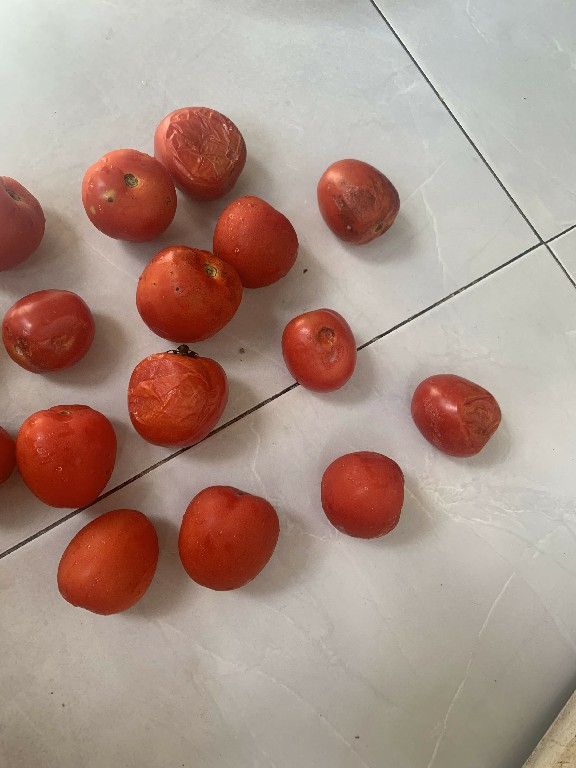NG: (123, 340, 233, 451), (124, 243, 241, 337), (72, 139, 175, 245), (403, 360, 502, 467), (152, 95, 254, 190), (0, 285, 100, 379), (309, 153, 404, 249), (276, 294, 363, 398)
OK: (169, 477, 288, 600), (51, 503, 163, 630), (14, 398, 121, 508), (311, 442, 413, 545), (210, 187, 300, 288), (0, 151, 49, 269)
